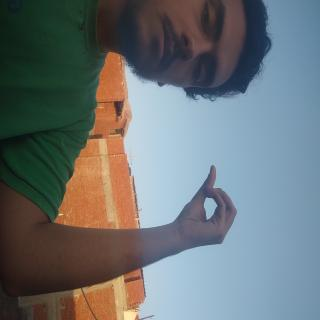WAW: (119, 101, 192, 196)
